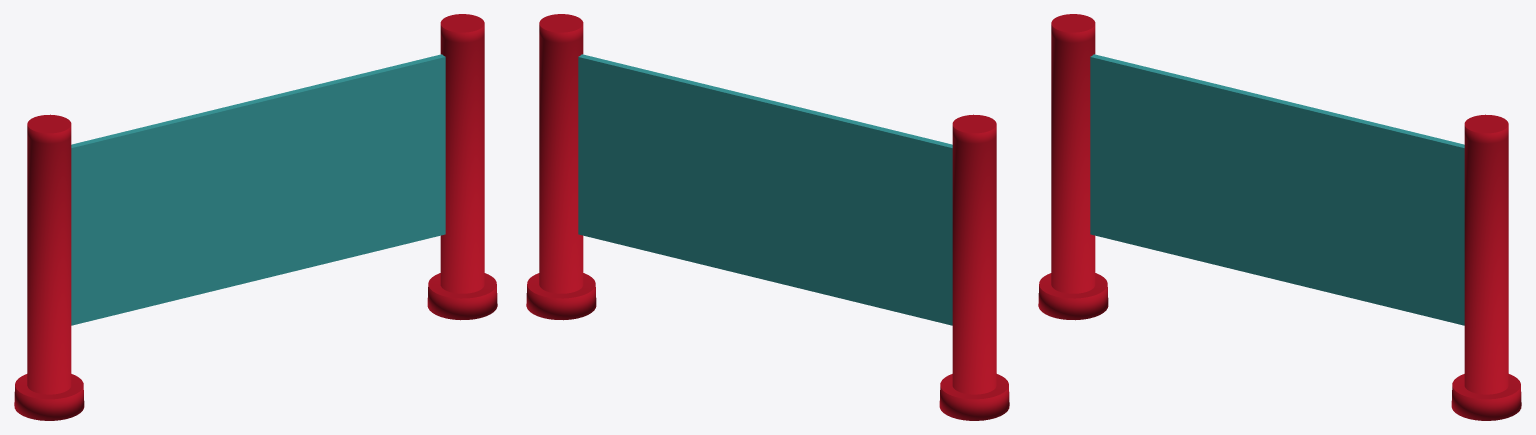
Rendered from Gate_V1_00.fbx.
The picture shows the model from 3 angles, left to right: view 1: azimuth 30°, elevation 25°; view 2: azimuth 150°, elevation 25°; view 3: azimuth 330°, elevation 25°; orthographic projection.
Visible parts, largest first — view 1: Cube, Barrier_V3_00.001, Barrier_V3_00.002; view 2: Cube, Barrier_V3_00.001, Barrier_V3_00.002; view 3: Cube, Barrier_V3_00.002, Barrier_V3_00.001.
Boxes of the visible parts, <box> form: Cube: <box>71,54,445,325</box>; Barrier_V3_00.001: <box>14,114,84,420</box>; Barrier_V3_00.002: <box>427,14,497,320</box>; Cube: <box>578,54,952,325</box>; Barrier_V3_00.001: <box>939,114,1009,420</box>; Barrier_V3_00.002: <box>526,14,596,320</box>; Cube: <box>1090,54,1464,325</box>; Barrier_V3_00.002: <box>1451,114,1521,420</box>; Barrier_V3_00.001: <box>1038,14,1108,320</box>.
Size of the model in its own units: 1147 by 652 by 147.
